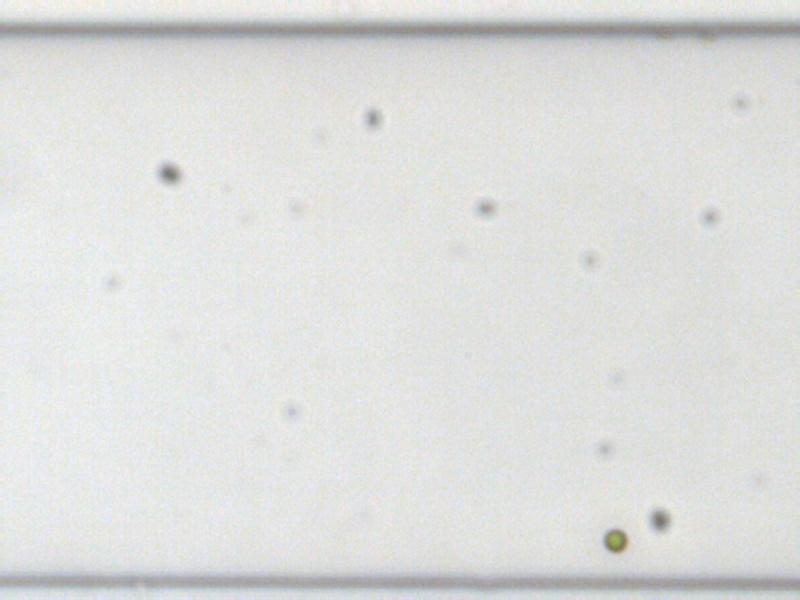Chlorella: (602, 527, 626, 552)
